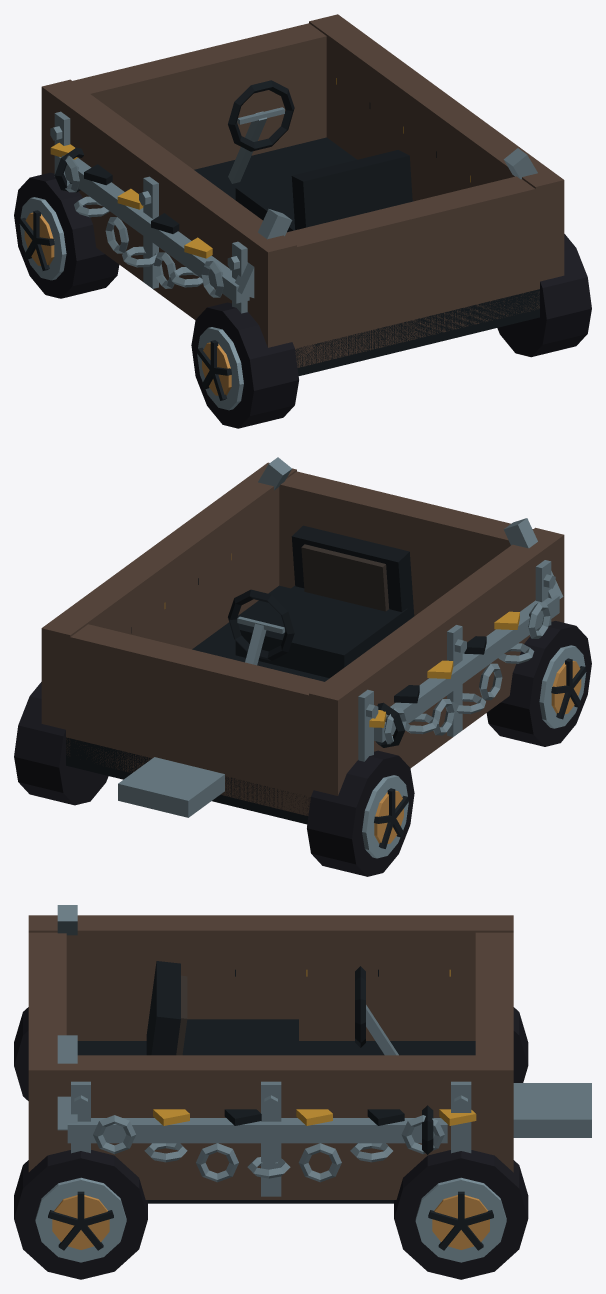
The model's file is kart.glb.
The picture shows the model from 3 angles, top to bottom: view 1: azimuth 30°, elevation 25°; view 2: azimuth 150°, elevation 25°; view 3: azimuth 270°, elevation 25°; orthographic projection. The views are drawn at different scales.
Parts seen in each view (by area): view 1: identity-minecart-minecart-riveted-open-bin, identity-minecart-driver-cockpit, wheel-rear-left, wheel-front-left, identity-minecart-motif-pipes, wheel-rear-right, identity-minecart-motif-chains, identity-minecart-motif-hazard-stripes; view 2: identity-minecart-minecart-riveted-open-bin, identity-minecart-driver-cockpit, wheel-front-left, wheel-rear-left, identity-minecart-motif-pipes, wheel-front-right, identity-minecart-motif-chains, identity-minecart-motif-hazard-stripes; view 3: identity-minecart-minecart-riveted-open-bin, wheel-front-right, wheel-rear-right, identity-minecart-motif-pipes, identity-minecart-driver-cockpit, identity-minecart-motif-chains, identity-minecart-motif-hazard-stripes, wheel-rear-left, wheel-front-left.
Part boxes in pixels (bbox=[...]): identity-minecart-minecart-riveted-open-bin: bbox=[41, 14, 564, 375]; identity-minecart-driver-cockpit: bbox=[228, 80, 412, 232]; wheel-rear-left: bbox=[191, 302, 298, 428]; wheel-front-left: bbox=[14, 172, 119, 298]; identity-minecart-motif-pipes: bbox=[54, 147, 537, 303]; wheel-rear-right: bbox=[497, 234, 591, 357]; identity-minecart-motif-chains: bbox=[61, 155, 223, 297]; identity-minecart-motif-hazard-stripes: bbox=[50, 78, 470, 258]; identity-minecart-minecart-riveted-open-bin: bbox=[41, 462, 564, 824]; identity-minecart-driver-cockpit: bbox=[228, 525, 414, 678]; wheel-front-left: bbox=[307, 750, 414, 876]; wheel-rear-left: bbox=[486, 621, 591, 746]; identity-minecart-motif-pipes: bbox=[258, 457, 563, 747]; wheel-front-right: bbox=[14, 682, 108, 805]; identity-minecart-motif-chains: bbox=[384, 602, 550, 744]; identity-minecart-motif-hazard-stripes: bbox=[131, 554, 519, 727]; identity-minecart-minecart-riveted-open-bin: bbox=[28, 915, 591, 1203]; wheel-front-right: bbox=[394, 1150, 528, 1279]; wheel-rear-right: bbox=[14, 1150, 147, 1279]; identity-minecart-motif-pipes: bbox=[57, 905, 447, 1154]; identity-minecart-driver-cockpit: bbox=[146, 961, 398, 1055]; identity-minecart-motif-chains: bbox=[93, 1115, 444, 1182]; identity-minecart-motif-hazard-stripes: bbox=[153, 969, 476, 1125]; wheel-rear-left: bbox=[14, 1007, 28, 1100]; wheel-front-left: bbox=[513, 1007, 528, 1082].
Size of the model in its own units: 1.99 by 1.09 by 2.58.
